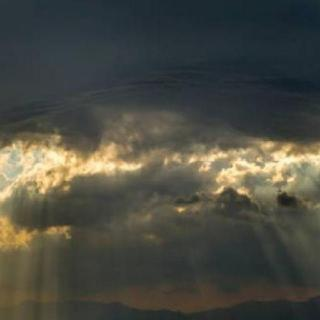Altostratus: (12, 88, 320, 320)
